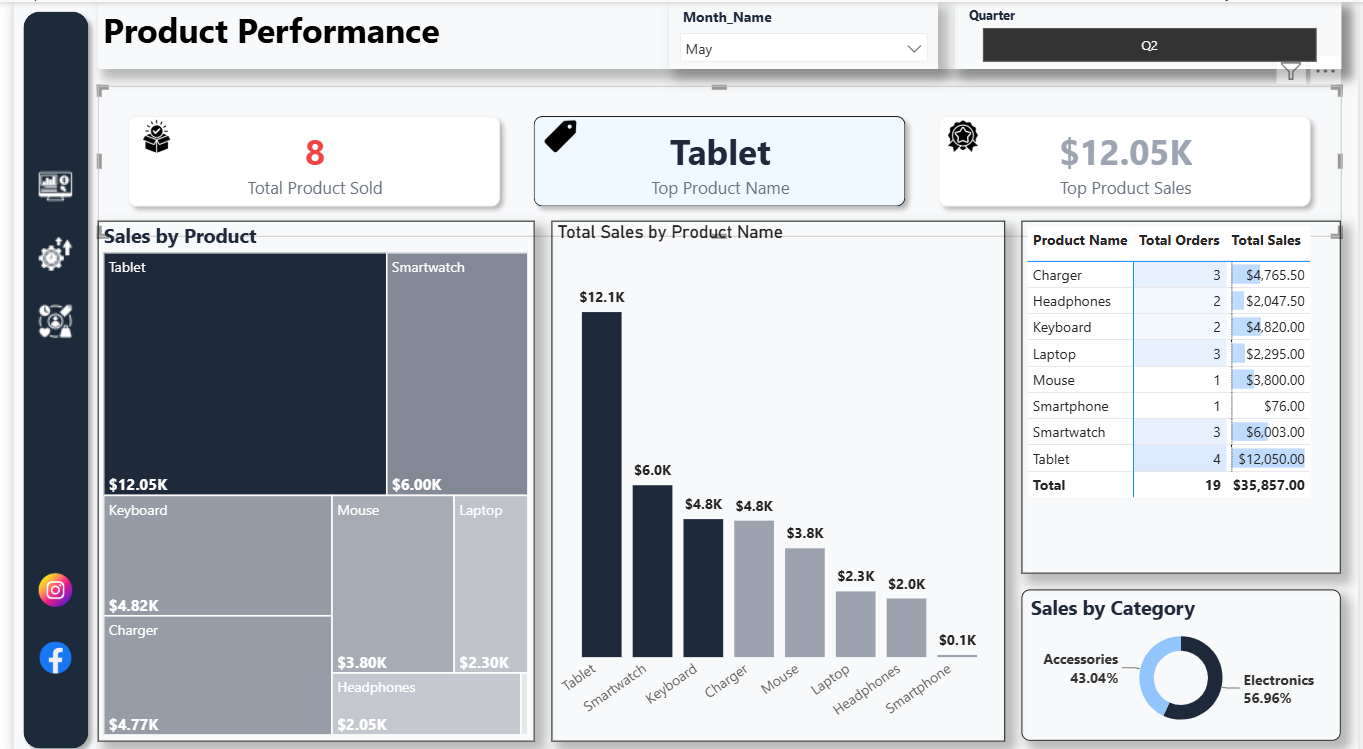

The page's visual inventory and layout, read from the dashboard file:
{"tool":"powerbi","page":{"name":"Product Performance","canvas":[1280,720],"ordinal":1},"visuals":[{"type":"shape","box":[0,0,80,720],"z":0},{"type":"textbox","box":[80,0,1184,64],"z":1000},{"type":"cardVisual","fields":{"Data":["_Measure.Total Product Sold","_Measure.Top Product Name","_Measure.Top Product Sales"]},"box":[80,80,1184,144],"z":2000},{"type":"slicer","fields":{"Values":["Dim_Date.Quarter"]},"box":[896,0,368,64],"z":3000},{"type":"slicer","fields":{"Values":["Dim_Date.Month_Name"]},"box":[624,0,256,64],"z":4000},{"type":"image","box":[112,112,48,32],"z":5000},{"type":"image","box":[496,112,48,32],"z":6000},{"type":"image","box":[880,112,48,32],"z":7000},{"type":"treemap","title":"Sales by Product","fields":{"Group":["Products_Raw.Product Name"],"Values":["_Measure.Total Sales"]},"box":[80,208,416,496],"z":8000},{"type":"pivotTable","fields":{"Rows":["Products_Raw.Product Name"],"Values":["_Measure.Total Orders","_Measure.Total Sales"]},"box":[960,208,304,336],"z":9000},{"type":"clusteredColumnChart","fields":{"Category":["Products_Raw.Product Name"],"Y":["_Measure.Total Sales"]},"box":[512,208,432,496],"z":10000},{"type":"donutChart","title":"Sales by Category","fields":{"Category":["Products_Raw.Category"],"Y":["_Measure.Total Sales"]},"box":[960,560,304,144],"z":11000},{"type":"image","box":[16,160,48,32],"z":11001},{"type":"image","box":[16,224,48,32],"z":11002},{"type":"image","box":[16,288,48,32],"z":11003},{"type":"image","box":[16,544,48,32],"z":11004},{"type":"image","box":[16,608,48,32],"z":11005}]}

Visuals, with their boxes on the page's 1280x720 design canvas (x1, y1, x2, y2). These are canvas units, not pixel positions in the 1363x749 screenshot, which may show the page scaled, cropped or inside an application window:
shape: 0/0/80/720
textbox: 80/0/1264/64
cardVisual - _Measure.Total Product Sold x _Measure.Top Product Name: 80/80/1264/224
slicer - Dim_Date.Quarter: 896/0/1264/64
slicer - Dim_Date.Month_Name: 624/0/880/64
image: 112/112/160/144
image: 496/112/544/144
image: 880/112/928/144
"Sales by Product" treemap: 80/208/496/704
pivotTable - Products_Raw.Product Name x _Measure.Total Orders: 960/208/1264/544
clusteredColumnChart - Products_Raw.Product Name x _Measure.Total Sales: 512/208/944/704
"Sales by Category" donutChart: 960/560/1264/704
image: 16/160/64/192
image: 16/224/64/256
image: 16/288/64/320
image: 16/544/64/576
image: 16/608/64/640
